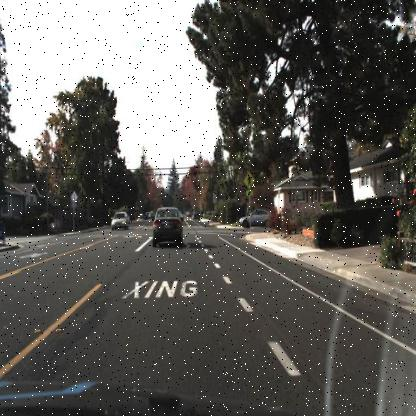car: (151, 206, 184, 247), (238, 206, 275, 230), (110, 210, 129, 231), (191, 207, 201, 225)
